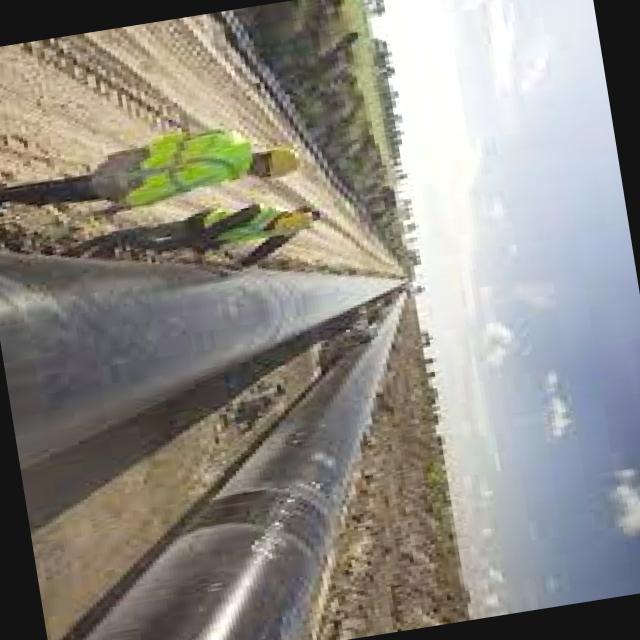gas: (81, 298, 402, 640), (0, 257, 400, 469)
